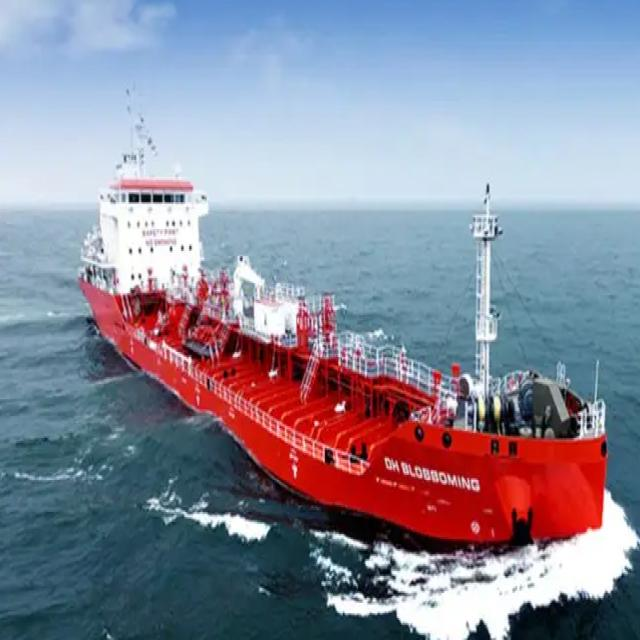cargoship: (82, 93, 608, 557)
